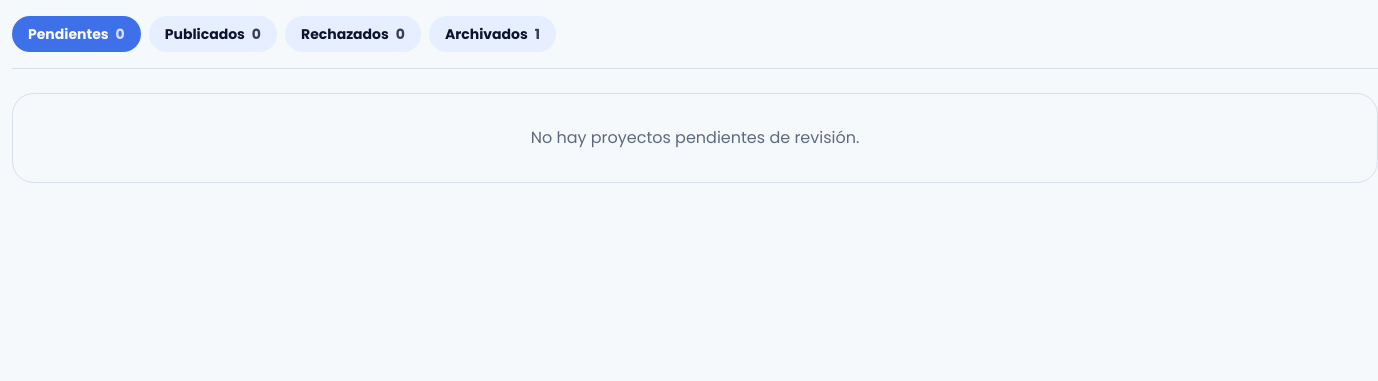
AdminProjectModeration › muestra archivados y permite restaurarlos sin convertirlos en rechazados
Click the tab "Archivados 1" at (493, 34), box x1=429 y1=16 x2=556 y2=52
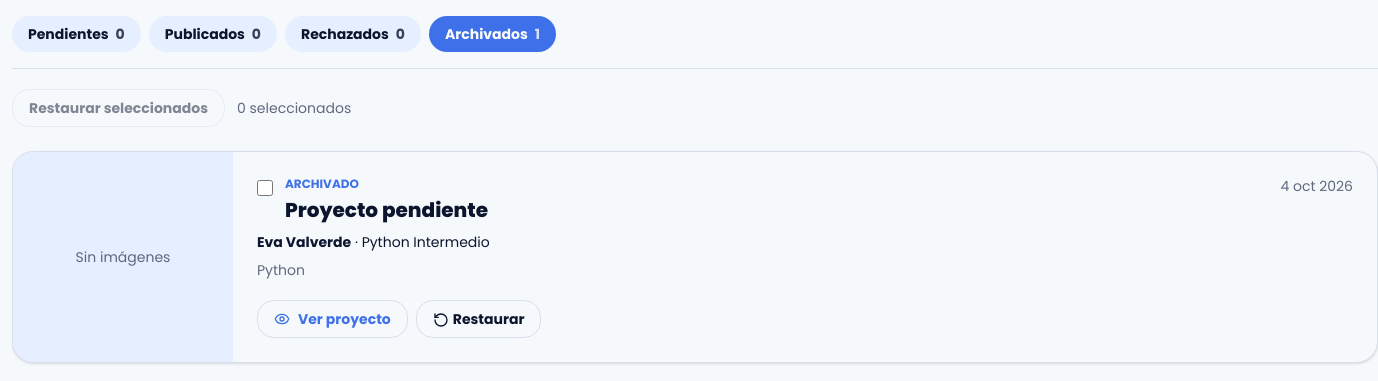
Result: the text "Archivado" is shown at x1=285 y1=175 x2=359 y2=192
Result: the button "Restaurar seleccionados" is shown at x1=12 y1=89 x2=225 y2=127
